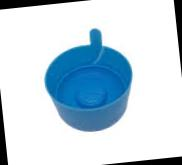Plastik: (44, 29, 133, 132)
